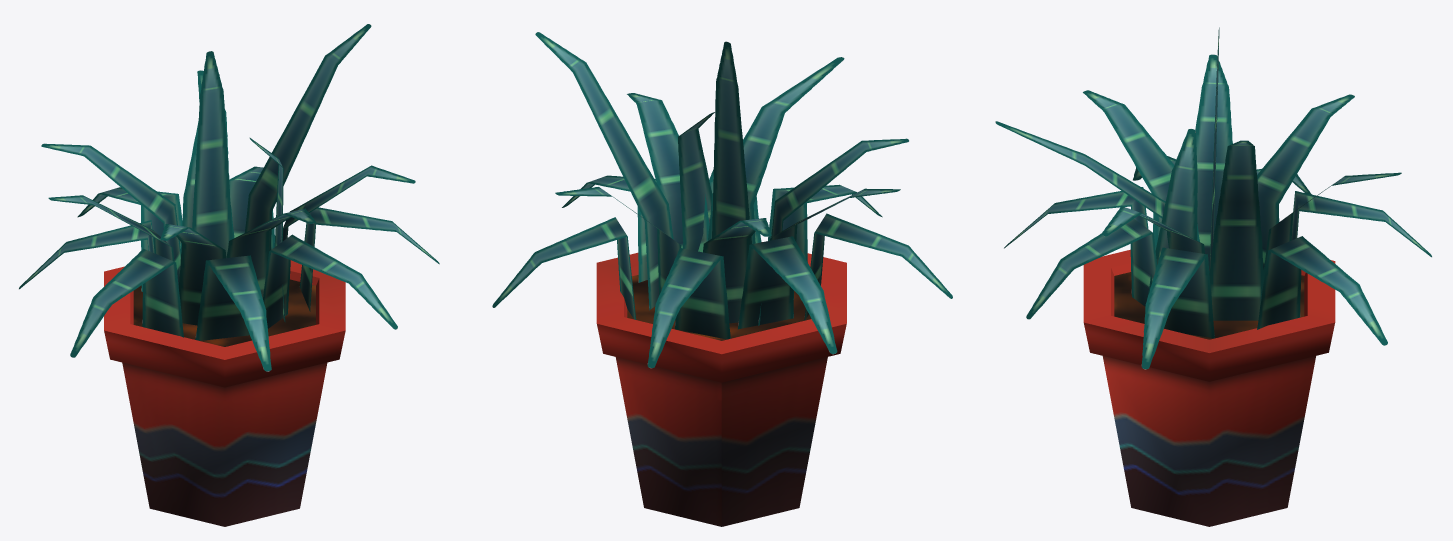
The model's file is Potted Plant_D.FBX.
3 renders of one model, left to right at view 1: azimuth 30°, elevation 25°; view 2: azimuth 150°, elevation 25°; view 3: azimuth 270°, elevation 25°, orthographic. The views are drawn at different scales.
Visible parts, largest first — view 1: Potted Plant; view 2: Potted Plant; view 3: Potted Plant.
Boxes of the visible parts, box(x1,y1,x2,y2) form: Potted Plant: box(19, 24, 439, 526); Potted Plant: box(492, 32, 952, 526); Potted Plant: box(995, 27, 1432, 526).
Bounding box in the file's own units: 141 × 152 × 134.
Materials: 2 (2 with a texture image).
